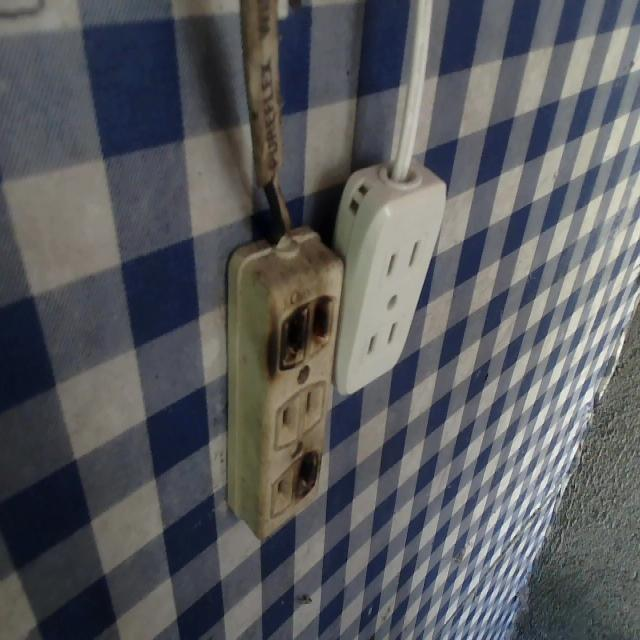-: (272, 293, 339, 371), (295, 446, 325, 506)
